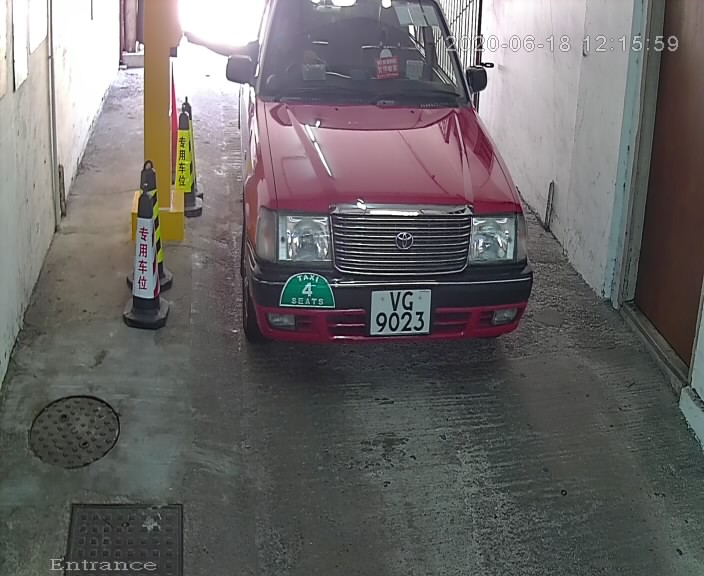taxi: (220, 2, 528, 381)
taxi_mark: (276, 263, 340, 322)
